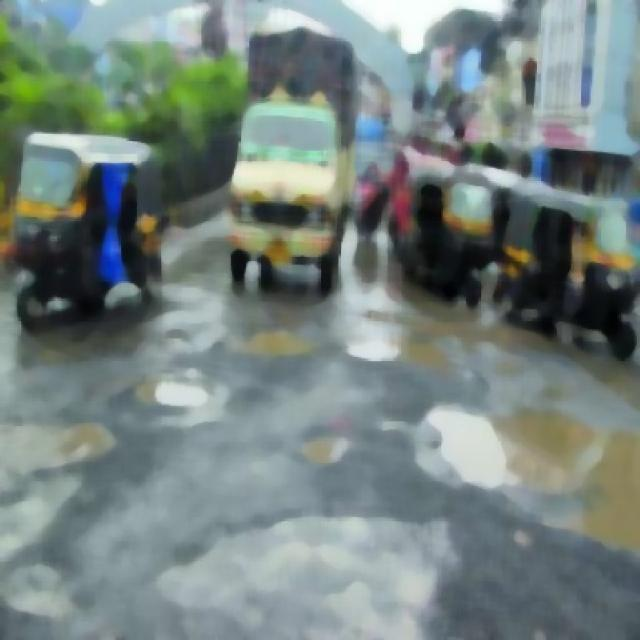pothole: (0, 405, 105, 482), (126, 368, 217, 436), (208, 322, 330, 364)
